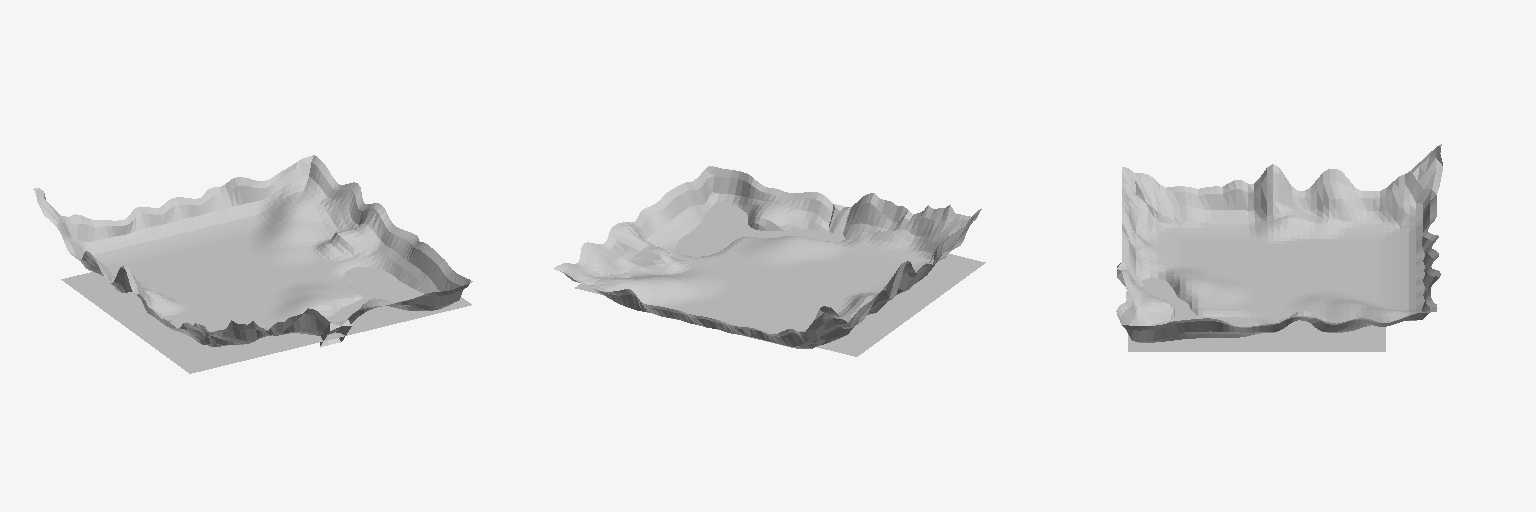
File: Forest_ground.obj
The picture shows the model from 3 angles: view 1: azimuth 30°, elevation 25°; view 2: azimuth 150°, elevation 25°; view 3: azimuth 270°, elevation 25°; orthographic projection.
Visible parts, largest first — view 1: group1 Forest_ground, Forest_water group1; view 2: group1 Forest_ground, Forest_water group1; view 3: group1 Forest_ground, Forest_water group1.
Boxes of the visible parts, box(x1,y1,x2,y2) form: group1 Forest_ground: box(33, 155, 472, 346); Forest_water group1: box(61, 267, 471, 373); group1 Forest_ground: box(554, 166, 981, 348); Forest_water group1: box(575, 202, 985, 356); group1 Forest_ground: box(1116, 144, 1442, 342); Forest_water group1: box(1128, 277, 1385, 351).
Size of the model in its own units: 1736 by 495 by 1719.